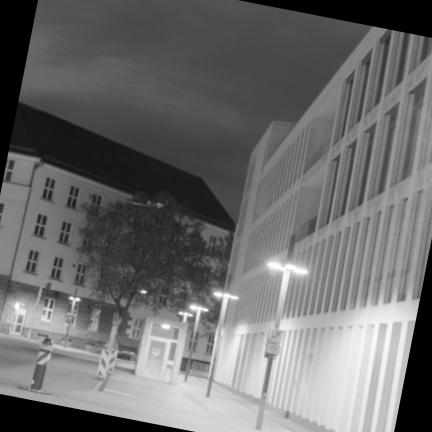Shahed: (127, 200, 168, 208)
